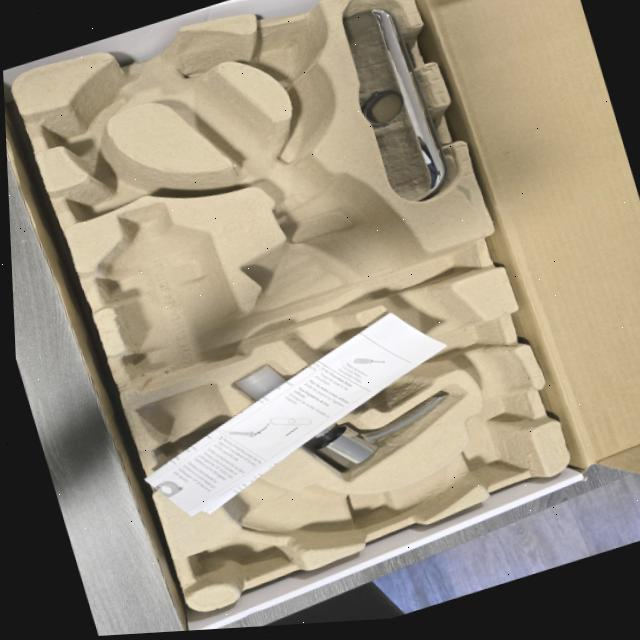1m: (110, 38, 544, 552)
2o: (235, 366, 448, 469)
3m: (100, 203, 248, 391)
4: (346, 9, 448, 202)
5m: (257, 31, 316, 77)
6m: (40, 81, 133, 160)
7m: (66, 153, 196, 221)
8: (143, 311, 448, 516)
